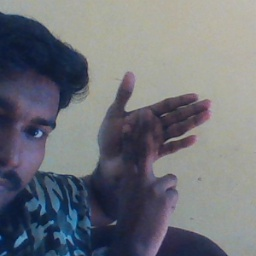N: (94, 69, 216, 204)
